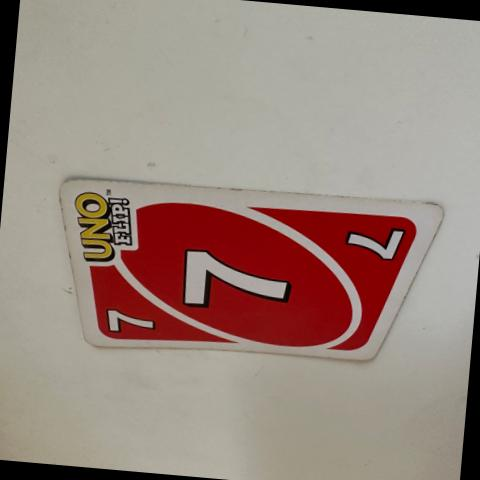lred-7: (92, 294, 166, 344)
